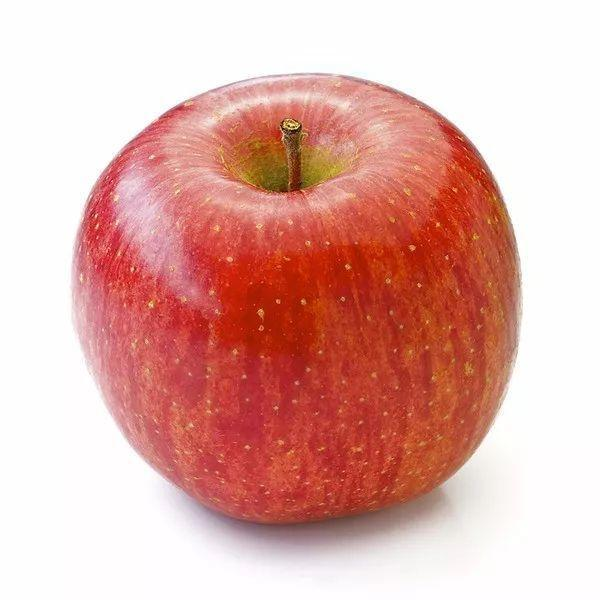apple: (65, 68, 519, 522)
